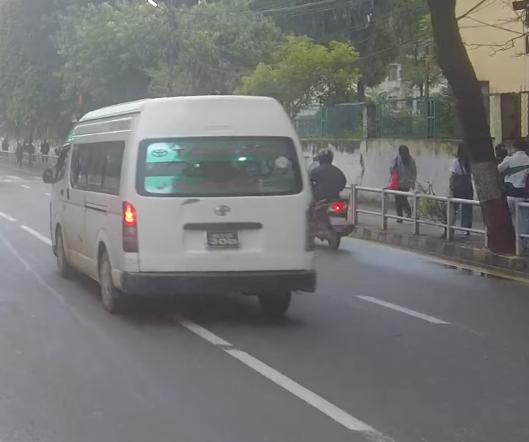micro_bus: (41, 91, 331, 329)
